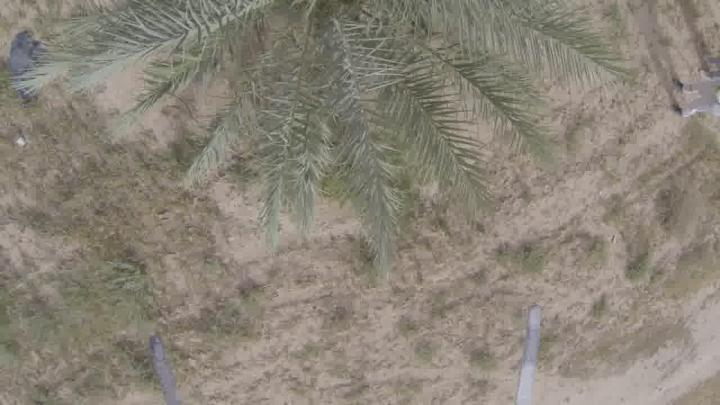Date-Palm-Crown: (122, 0, 524, 186)
